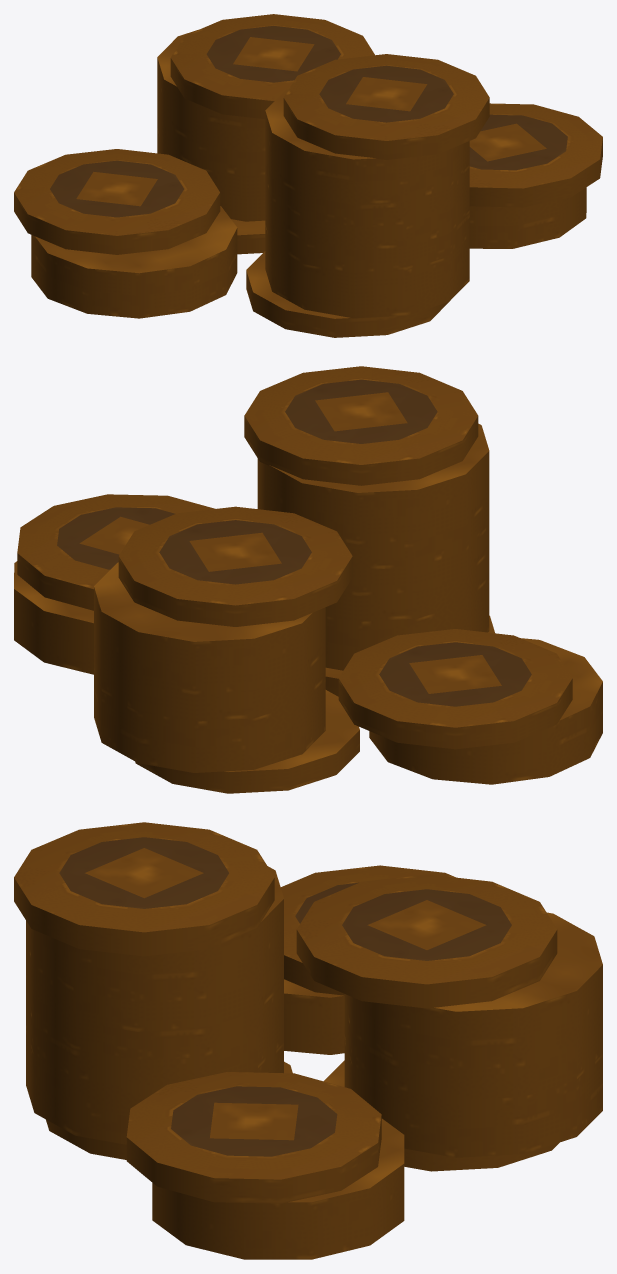
Rendered from Coin_Pile.glb.
The picture shows the model from 3 angles, top to bottom: view 1: azimuth 30°, elevation 25°; view 2: azimuth 150°, elevation 25°; view 3: azimuth 270°, elevation 25°; orthographic projection. The views are drawn at different scales.
Visible parts, largest first — view 1: Coin_Pile; view 2: Coin_Pile; view 3: Coin_Pile.
Part boxes in pixels (<box>): Coin_Pile: <box>14,14,602,337</box>; Coin_Pile: <box>14,366,602,793</box>; Coin_Pile: <box>14,822,602,1259</box>.
Size of the model in its own units: 0.1975 by 0.0735 by 0.1542.
Materials: 1 (1 with a texture image).
